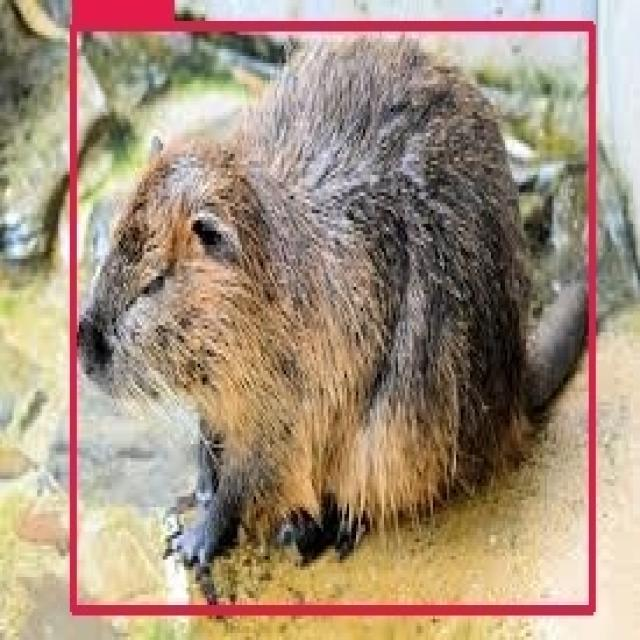rat: (74, 27, 594, 610)
